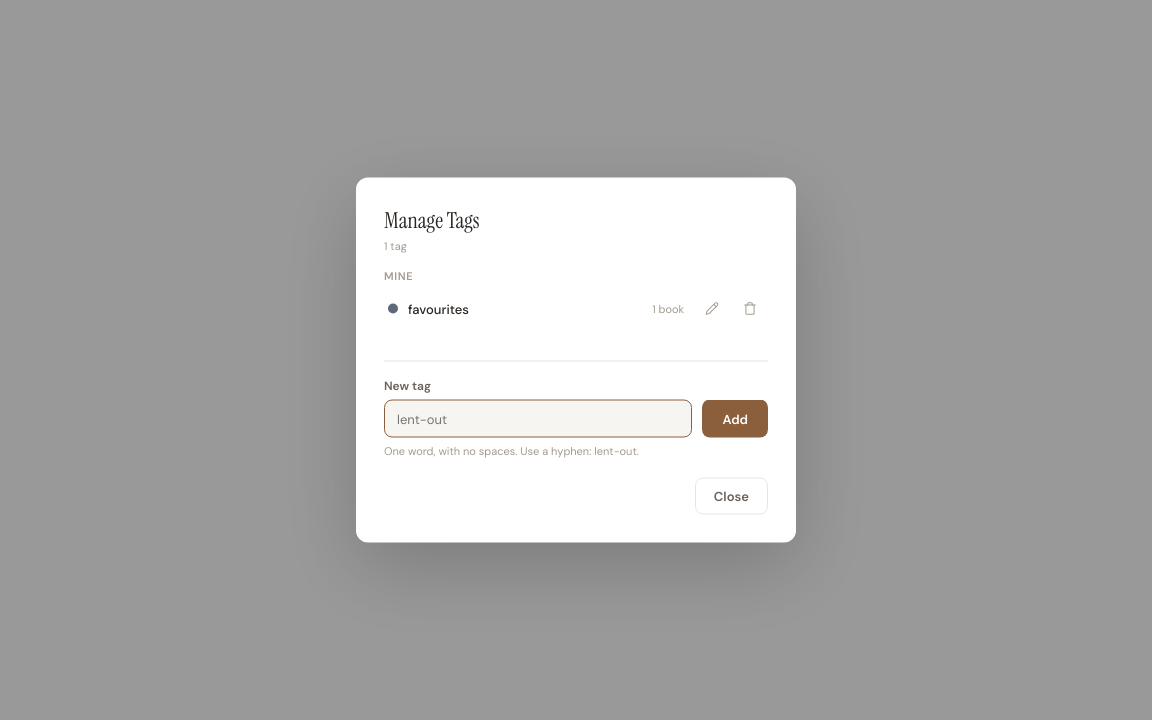
Test: TagManager › keeps a refused duplicate in the box to be corrected
The image size is (1152, 720).
Expected: the text "favourites" is shown, left=408, top=300, right=469, bottom=317
Type "Favourites" into the field labelled "New tag" at [538, 418], box left=384, top=400, right=692, bottom=438
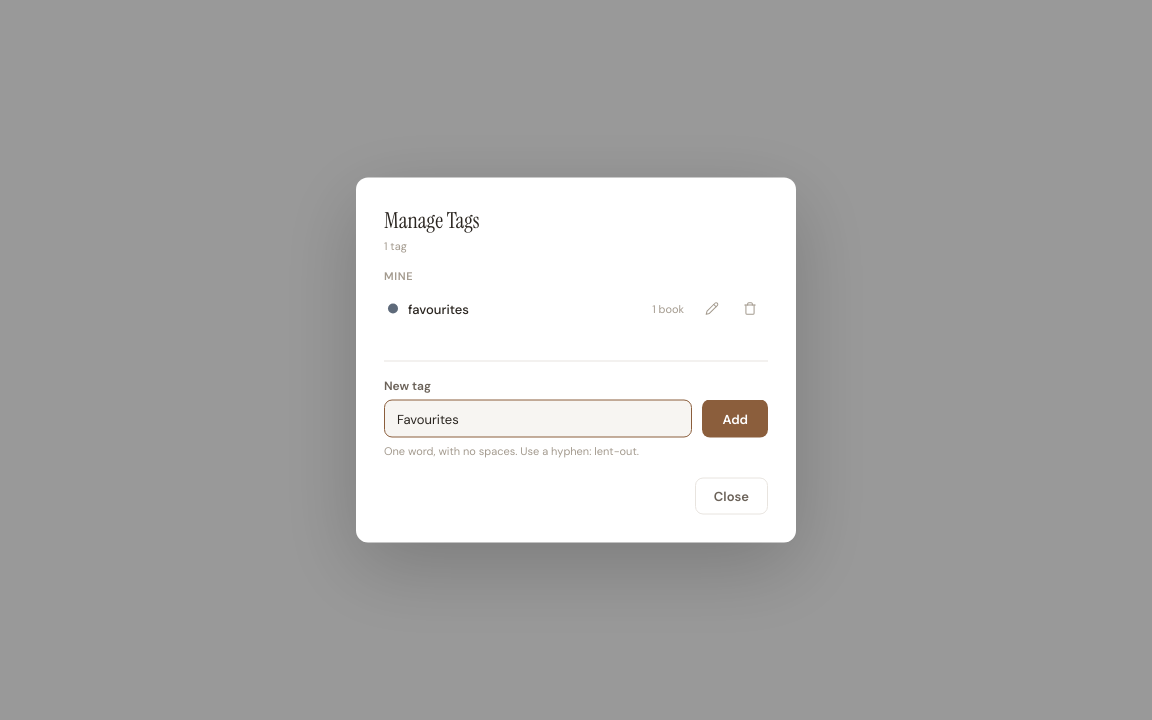
Click the button "Add" at [735, 418], box left=702, top=400, right=768, bottom=438
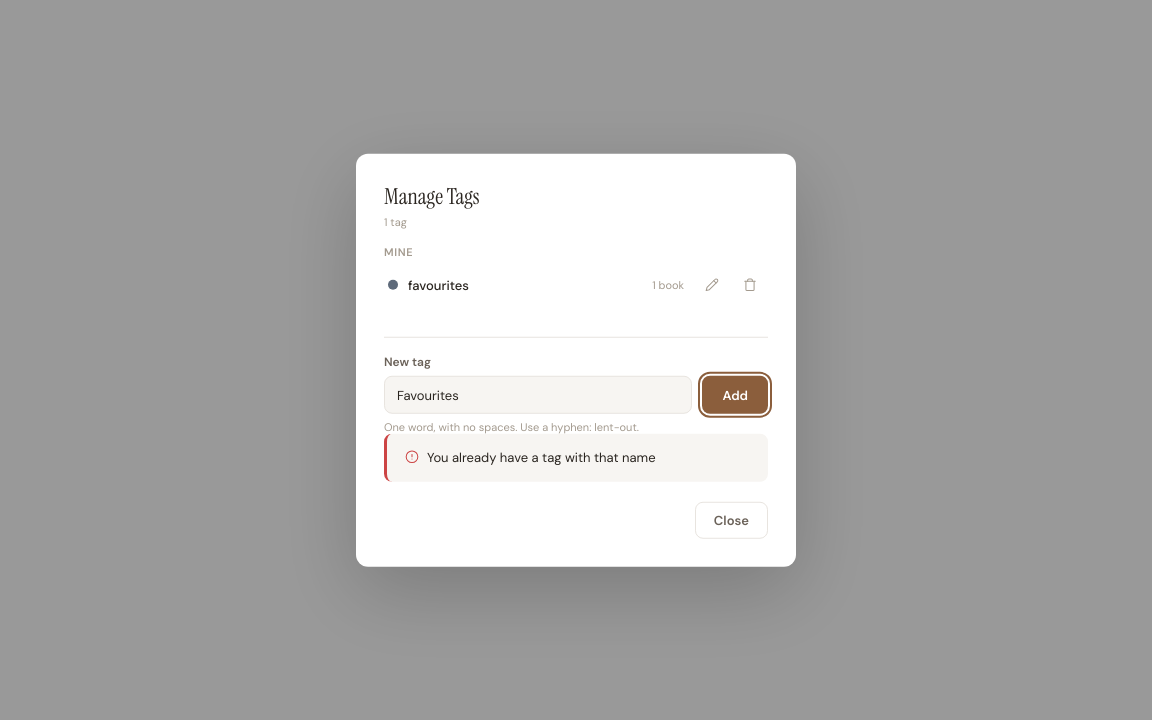
Now the text "You already have a tag with that name" is shown, box left=405, top=448, right=656, bottom=467
